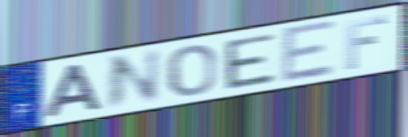A: (42, 61, 105, 121)
E: (280, 18, 337, 86), (222, 31, 277, 91)
F: (344, 14, 389, 72)
N: (103, 46, 162, 114)
O: (165, 43, 218, 99)
